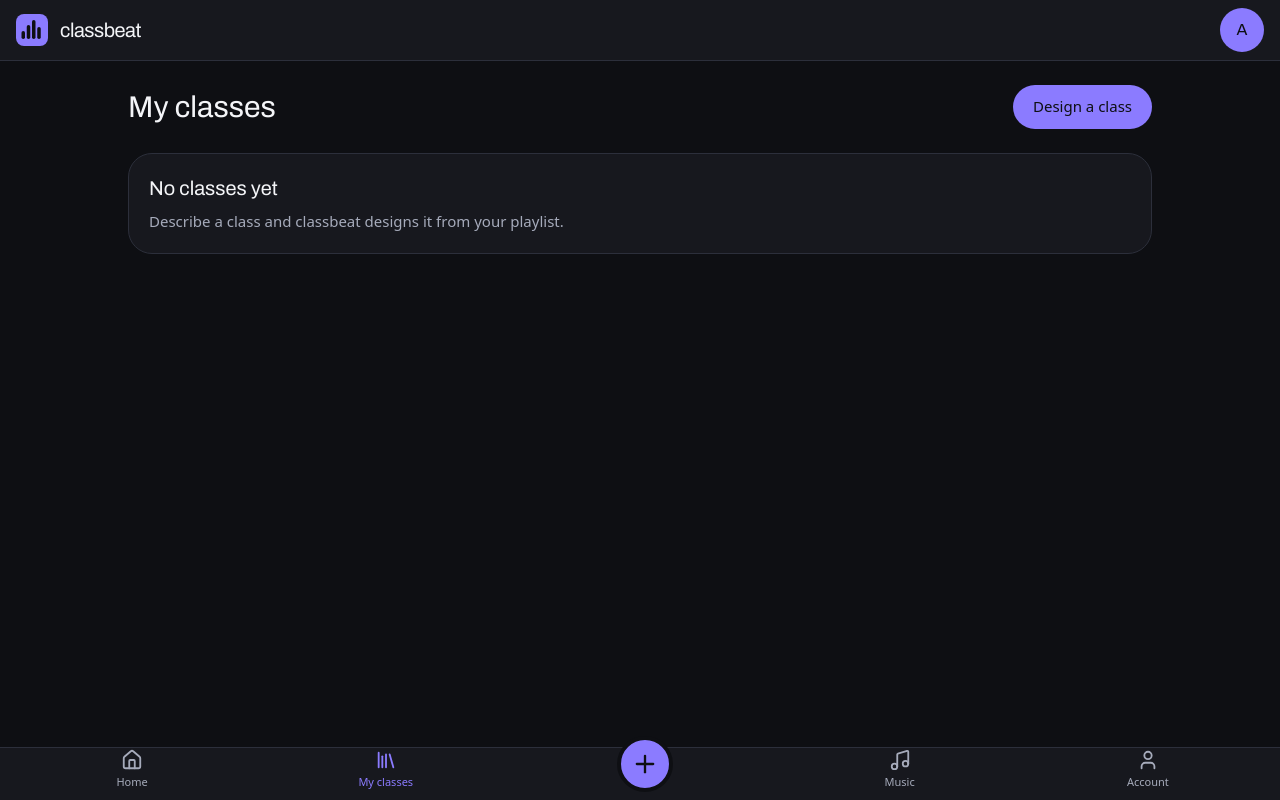
Test: avatar menu and Admin › has Account and Sign out, and no Admin for a normal user
Click the button named "ann@example.test". click: [1242, 30]
box: [1220,8,1264,52]
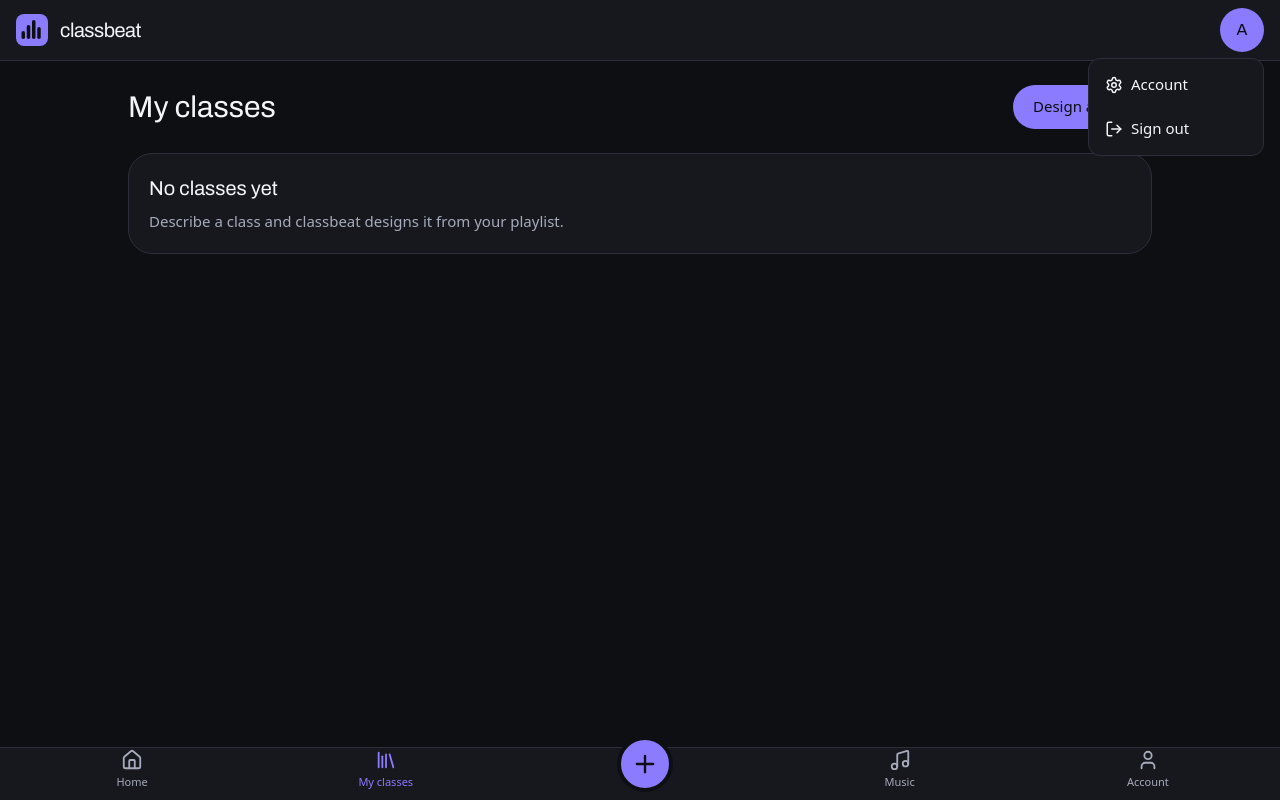
Expected: the menu item "Account" is shown, [1105,74,1188,94]
Expected: the menu item "Sign out" is shown, [1105,118,1189,138]
